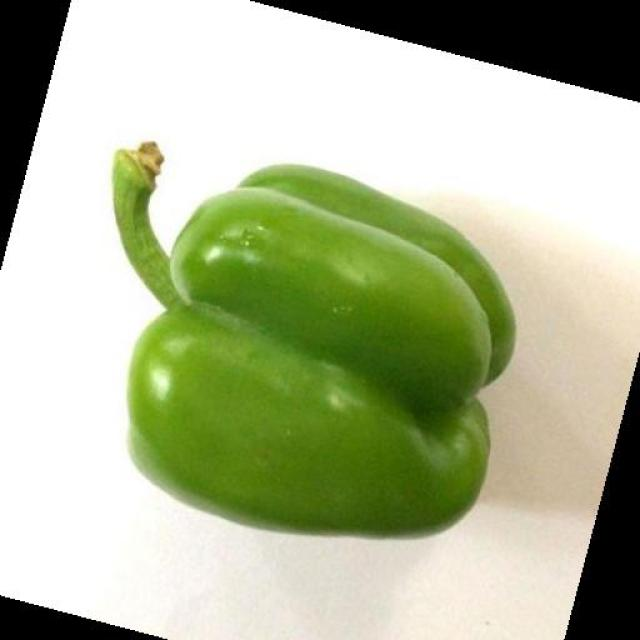Fresh_Capsicum: (98, 124, 532, 545)
